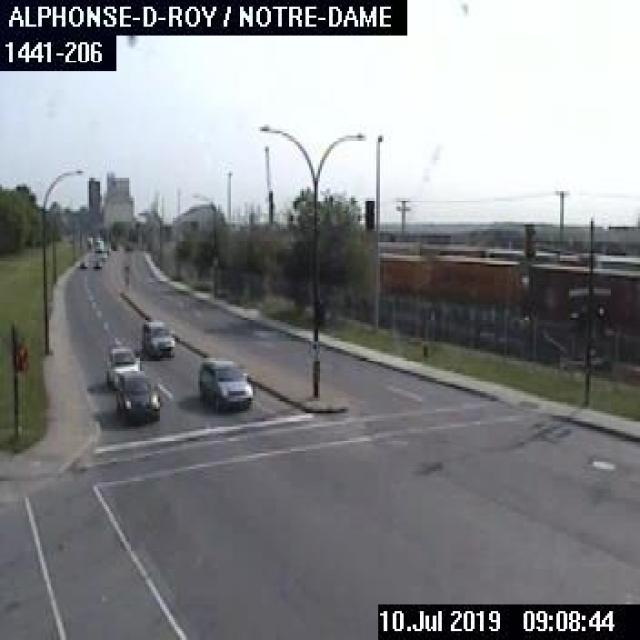vehicle: (197, 357, 253, 408), (112, 368, 160, 427), (102, 340, 140, 390), (140, 321, 175, 358), (73, 255, 87, 269), (90, 258, 100, 268)
